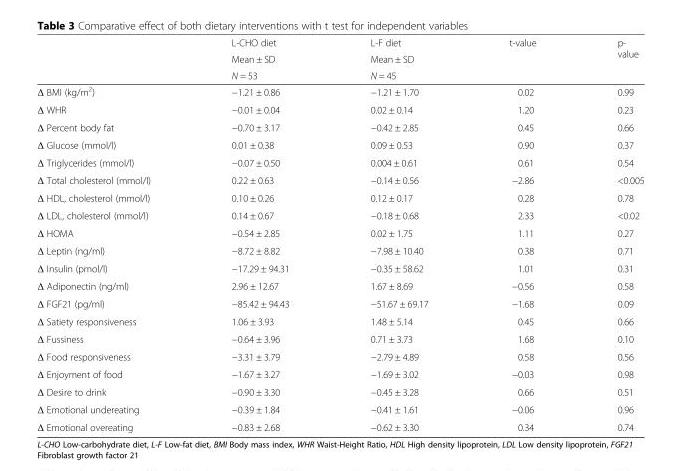table: (36, 36, 643, 432)
table column: (36, 36, 190, 432), (190, 36, 329, 432), (329, 36, 468, 432), (468, 36, 576, 432), (576, 36, 643, 432)
table column header: (36, 36, 643, 82)
table row: (36, 82, 643, 100), (36, 100, 643, 118), (36, 135, 643, 153), (36, 170, 643, 188), (36, 188, 643, 206), (36, 223, 643, 241), (36, 241, 643, 259), (36, 276, 643, 294), (36, 294, 643, 312), (36, 329, 643, 347), (36, 364, 643, 382), (36, 382, 643, 400), (36, 118, 643, 135), (36, 153, 643, 170), (36, 206, 643, 223), (36, 259, 643, 276), (36, 312, 643, 329), (36, 347, 643, 364), (36, 400, 643, 417), (36, 50, 643, 66), (36, 66, 643, 82), (36, 417, 643, 432), (36, 36, 643, 50)
table spanning cell: (190, 36, 329, 82), (329, 36, 468, 82), (468, 36, 576, 82), (576, 36, 643, 82)
